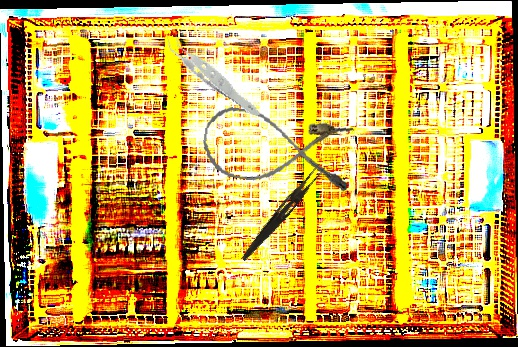Cannula: (198, 103, 357, 196)
Dressing Forceps: (239, 160, 326, 266)
Tissue Forceps: (163, 10, 261, 136)
